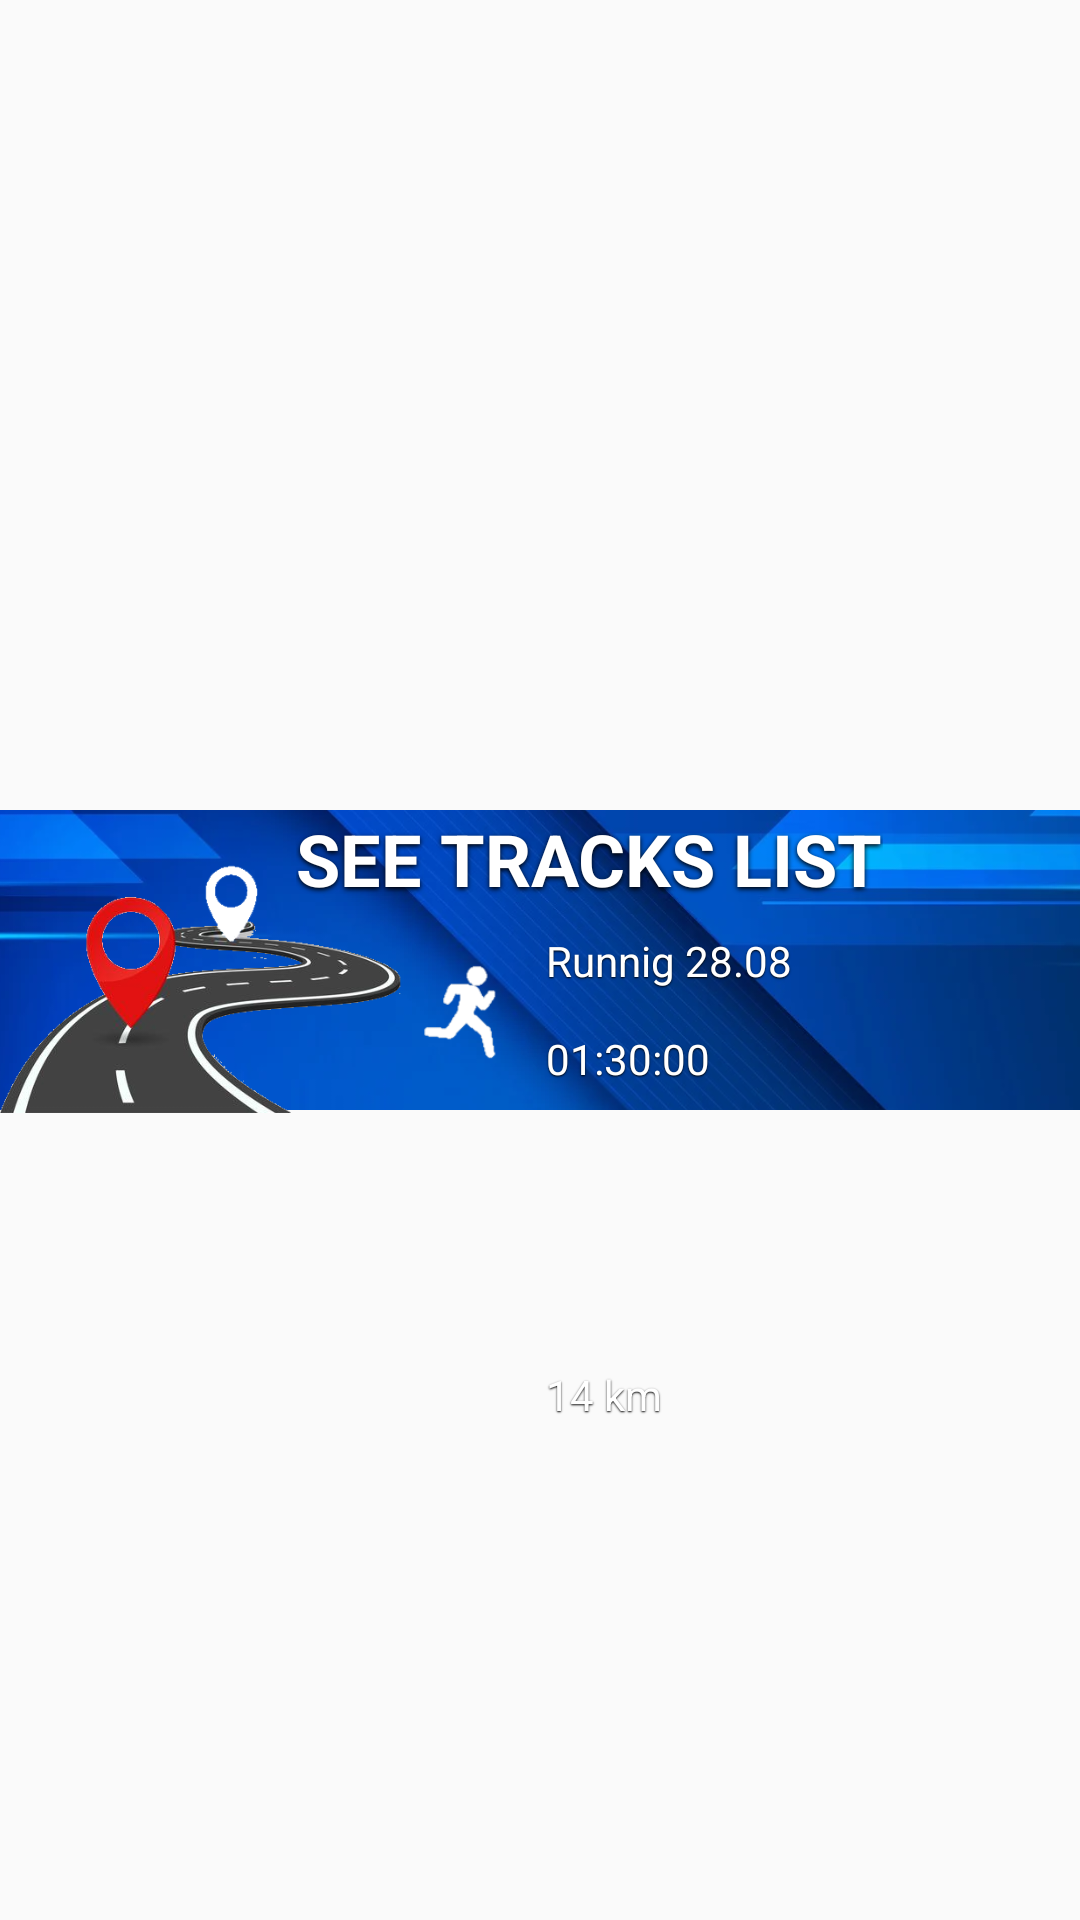

Where icons sit on this 1080*1920 app screen, as (x1, y1, x2, y2):
running: (420, 956, 522, 1059)
